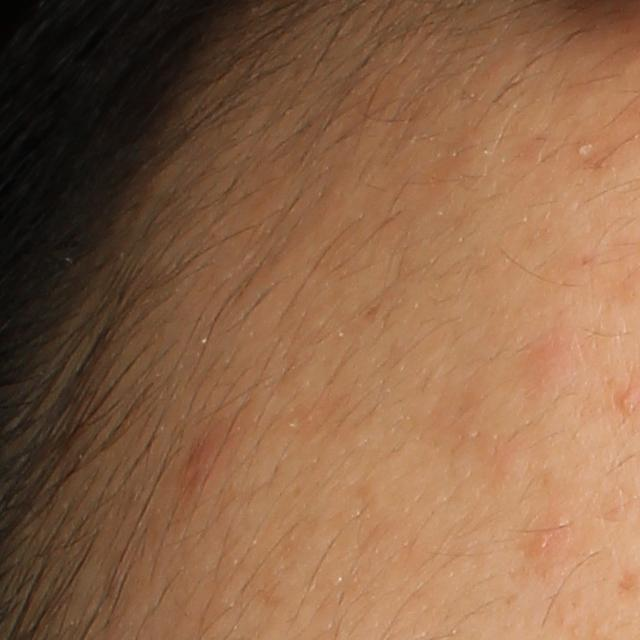comedo: (573, 142, 589, 157)
papule: (528, 531, 553, 559)
